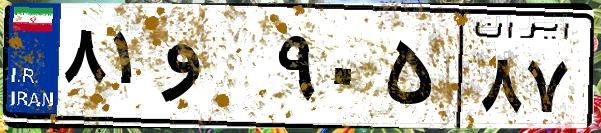0: (330, 28, 385, 110)
1: (110, 28, 158, 98)
5: (385, 28, 445, 110)
7: (525, 38, 570, 115)
8: (57, 26, 110, 100), (475, 38, 525, 113)
9: (270, 28, 330, 110)
و: (158, 20, 270, 120)
